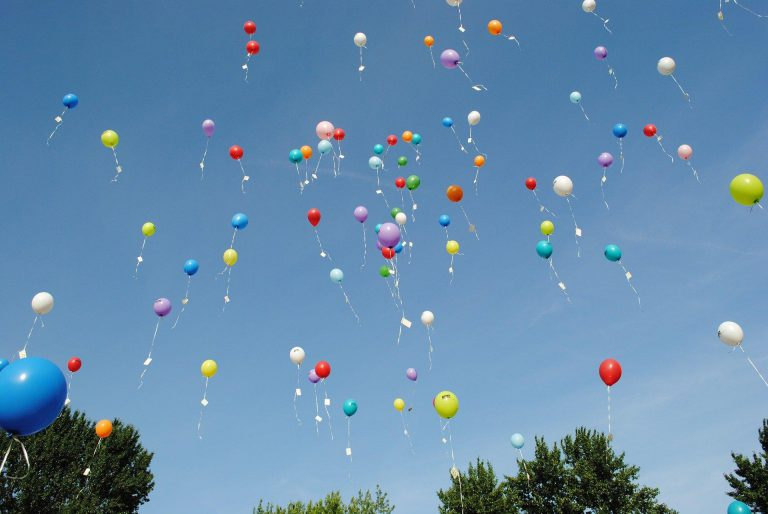Balloon: (1, 358, 66, 437), (728, 173, 764, 206), (434, 390, 459, 418), (717, 320, 742, 347), (599, 358, 622, 386), (31, 291, 54, 315), (378, 223, 401, 247), (552, 175, 573, 196), (439, 49, 461, 68), (656, 56, 676, 76), (153, 297, 172, 316), (100, 129, 119, 148), (316, 120, 334, 140), (535, 240, 553, 258), (95, 419, 112, 438), (200, 359, 217, 377), (231, 213, 249, 230), (604, 245, 622, 262), (446, 185, 463, 202), (289, 346, 305, 364), (315, 360, 331, 378), (343, 399, 358, 418), (329, 268, 345, 285), (183, 259, 199, 276), (307, 208, 321, 227), (228, 144, 244, 160), (62, 93, 79, 108), (487, 19, 502, 36), (597, 152, 614, 167), (420, 310, 435, 327), (510, 432, 525, 449), (223, 248, 237, 266), (677, 144, 692, 160), (467, 110, 481, 126), (68, 356, 82, 372), (353, 205, 366, 222), (141, 222, 156, 236), (406, 174, 420, 189), (446, 240, 460, 255), (353, 32, 367, 47), (613, 123, 628, 137), (201, 119, 214, 135), (289, 148, 302, 164), (367, 156, 383, 169), (318, 140, 331, 155), (246, 40, 259, 55), (243, 19, 256, 34), (581, 1, 597, 13), (594, 46, 608, 59), (540, 221, 554, 234), (438, 214, 451, 227), (643, 124, 656, 137), (405, 367, 417, 381), (441, 116, 454, 128), (570, 91, 581, 104), (394, 212, 406, 223), (526, 177, 537, 189), (393, 398, 404, 410), (373, 143, 384, 154), (387, 134, 398, 145), (474, 154, 484, 166), (395, 177, 405, 188), (424, 35, 433, 46)
